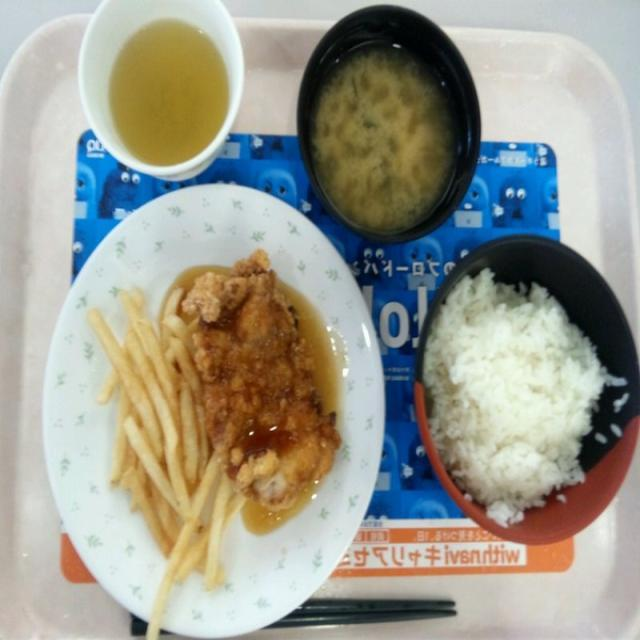Rice: (414, 235, 636, 545)
